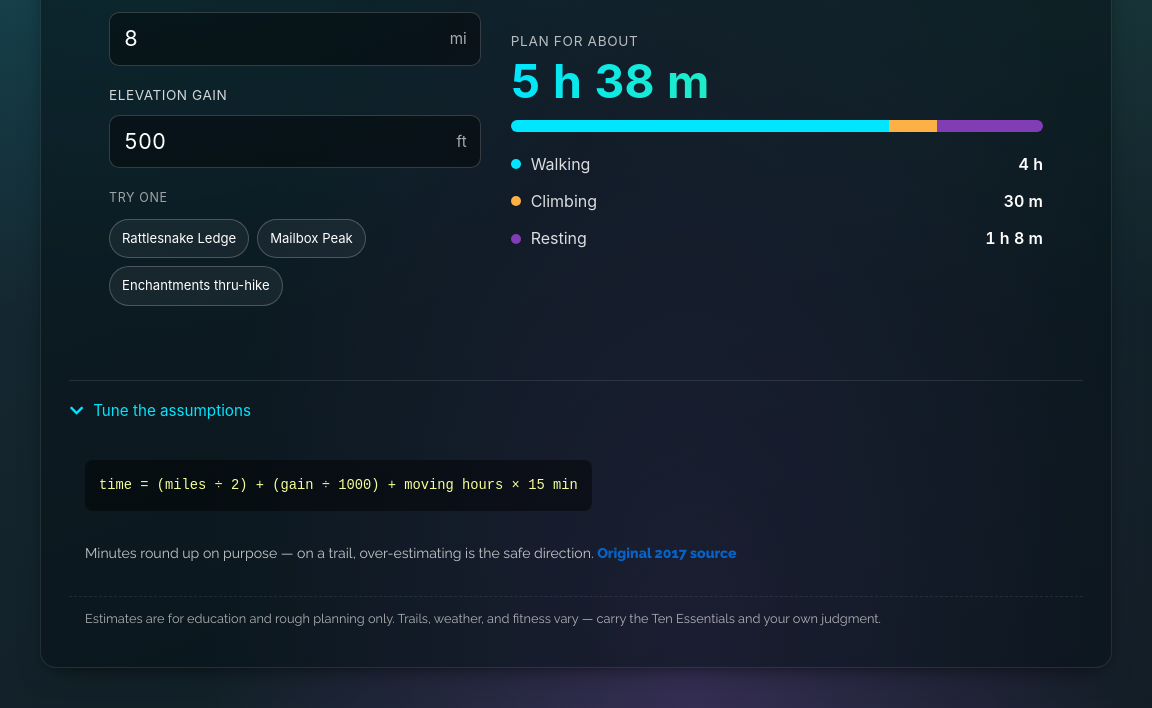
Test: Toolkit › keeps the tuning controls collapsed until asked for
(page scrolled)
What coordinates should you click on to do the following:
click the button with class "toolkit-disclosure"
I would click on:
 (160, 410)
Its box is [69,397,251,424].
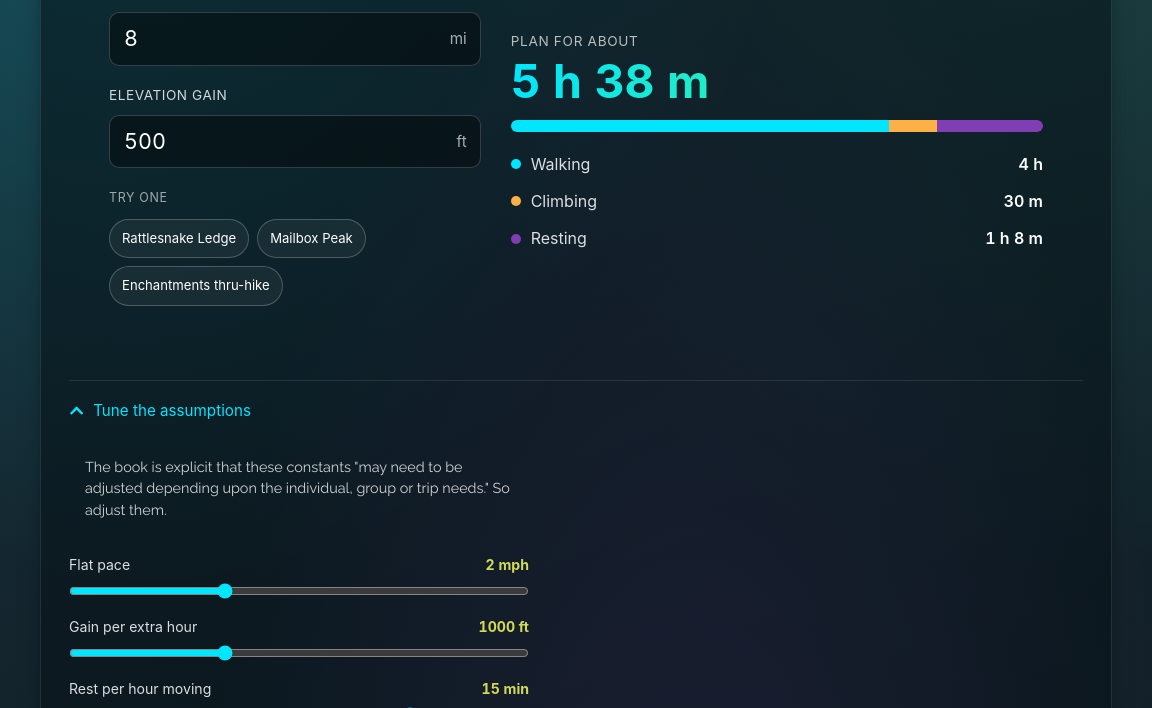
Check: the slider with id "tune-paceMph" is shown, box [69,583,529,599]
